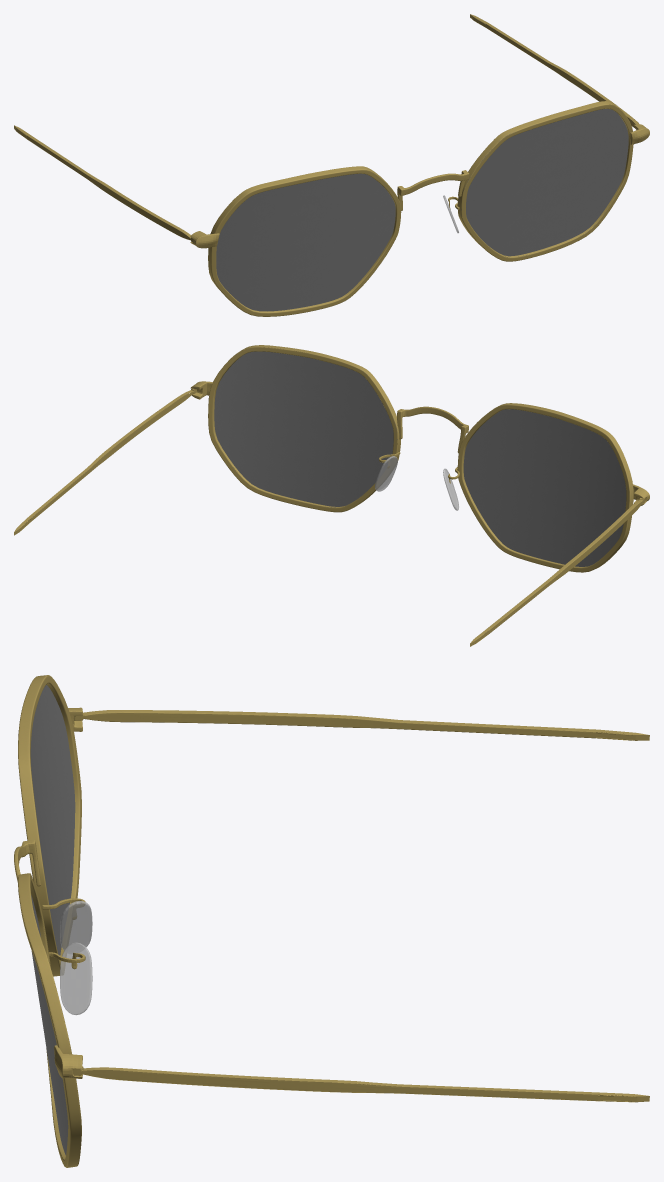
File: OCTAGONAL_app_GLB.glb
3 views of the same model, one above another, from view 1: azimuth 30°, elevation 25°; view 2: azimuth 150°, elevation 25°; view 3: azimuth 270°, elevation 25° (orthographic). The views are drawn at different scales.
Parts seen in each view (by area): view 1: obj; view 2: obj; view 3: obj.
Part boxes in pixels (x1,y1,x2,y2): obj: (14,14,649,316); obj: (14,345,649,646); obj: (14,675,649,1167).
Bounding box in the file's own units: 0.1644 × 0.0492 × 0.12.
Materials: 3 (2 with a texture image).
